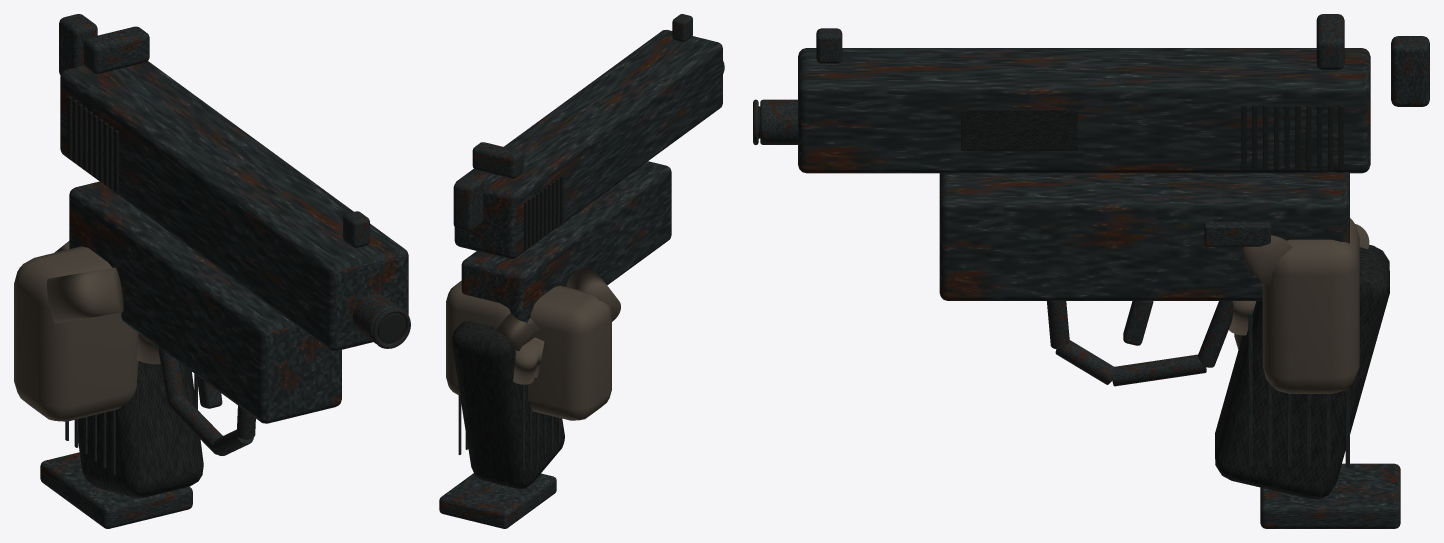
Rendered from pistol.glb.
The picture shows the model from 3 angles, left to right: view 1: azimuth 30°, elevation 25°; view 2: azimuth 150°, elevation 25°; view 3: azimuth 270°, elevation 25°; orthographic projection. The views are drawn at different scales.
Parts seen in each view (by area): view 1: Beveled slide, Contoured receiver, gloved palm.002, Checkered pistol grip, Magazine floor, thumb.002, Rear sight, Hammer, Barrel crown, Curved trigger guard.001, Curved trigger guard, Front sight (+6 smaller); view 2: Beveled slide, Contoured receiver, Checkered pistol grip, gloved palm.002, Magazine floor, gloved palm.001, Hammer, Rear sight, thumb.002, curled finger distal.007, curled finger proximal.007, Front sight; view 3: Beveled slide, Contoured receiver, Checkered pistol grip, gloved palm.001, Magazine floor, Ejection port, Hammer, Curved trigger guard.001, Barrel crown, Slide release, Rear sight, thumb.001 (+6 smaller).
Boxes of the visible parts, x1=… form: Beveled slide: x1=60, y1=61, x2=408, y2=350; Contoured receiver: x1=69, y1=181, x2=341, y2=423; gloved palm.002: x1=14, y1=246, x2=138, y2=421; Checkered pistol grip: x1=78, y1=361, x2=203, y2=497; Magazine floor: x1=40, y1=452, x2=192, y2=528; thumb.002: x1=46, y1=267, x2=123, y2=323; Rear sight: x1=83, y1=26, x2=149, y2=73; Hammer: x1=59, y1=14, x2=97, y2=75; Barrel crown: x1=352, y1=293, x2=405, y2=343; Curved trigger guard.001: x1=169, y1=396, x2=222, y2=454; Curved trigger guard: x1=158, y1=347, x2=185, y2=402; Front sight: x1=343, y1=211, x2=369, y2=247; Beveled slide: x1=454, y1=30, x2=722, y2=259; Contoured receiver: x1=461, y1=161, x2=671, y2=322; Checkered pistol grip: x1=451, y1=321, x2=564, y2=488; gloved palm.002: x1=528, y1=285, x2=611, y2=420; Magazine floor: x1=439, y1=473, x2=556, y2=528; gloved palm.001: x1=446, y1=280, x2=510, y2=394; Hammer: x1=453, y1=175, x2=483, y2=231; Rear sight: x1=472, y1=142, x2=523, y2=178; thumb.002: x1=566, y1=267, x2=620, y2=321; curled finger distal.007: x1=513, y1=340, x2=540, y2=384; curled finger proximal.007: x1=496, y1=313, x2=536, y2=351; Front sight: x1=672, y1=14, x2=692, y2=42; Beveled slide: x1=798, y1=48, x2=1370, y2=173; Contoured receiver: x1=939, y1=173, x2=1349, y2=300; Checkered pistol grip: x1=1215, y1=245, x2=1389, y2=498; gloved palm.001: x1=1262, y1=218, x2=1359, y2=393; Magazine floor: x1=1260, y1=463, x2=1400, y2=528; Ejection port: x1=961, y1=109, x2=1077, y2=150; Hammer: x1=1391, y1=36, x2=1429, y2=106; Curved trigger guard.001: x1=1112, y1=354, x2=1206, y2=386; Barrel crown: x1=760, y1=99, x2=797, y2=144; Slide release: x1=1204, y1=221, x2=1270, y2=246; Rear sight: x1=1316, y1=14, x2=1344, y2=70; thumb.001: x1=1242, y1=235, x2=1292, y2=286.
Size of the model in its own units: 0.0998 by 0.246 by 0.3133.
4 materials, 2 textured.
